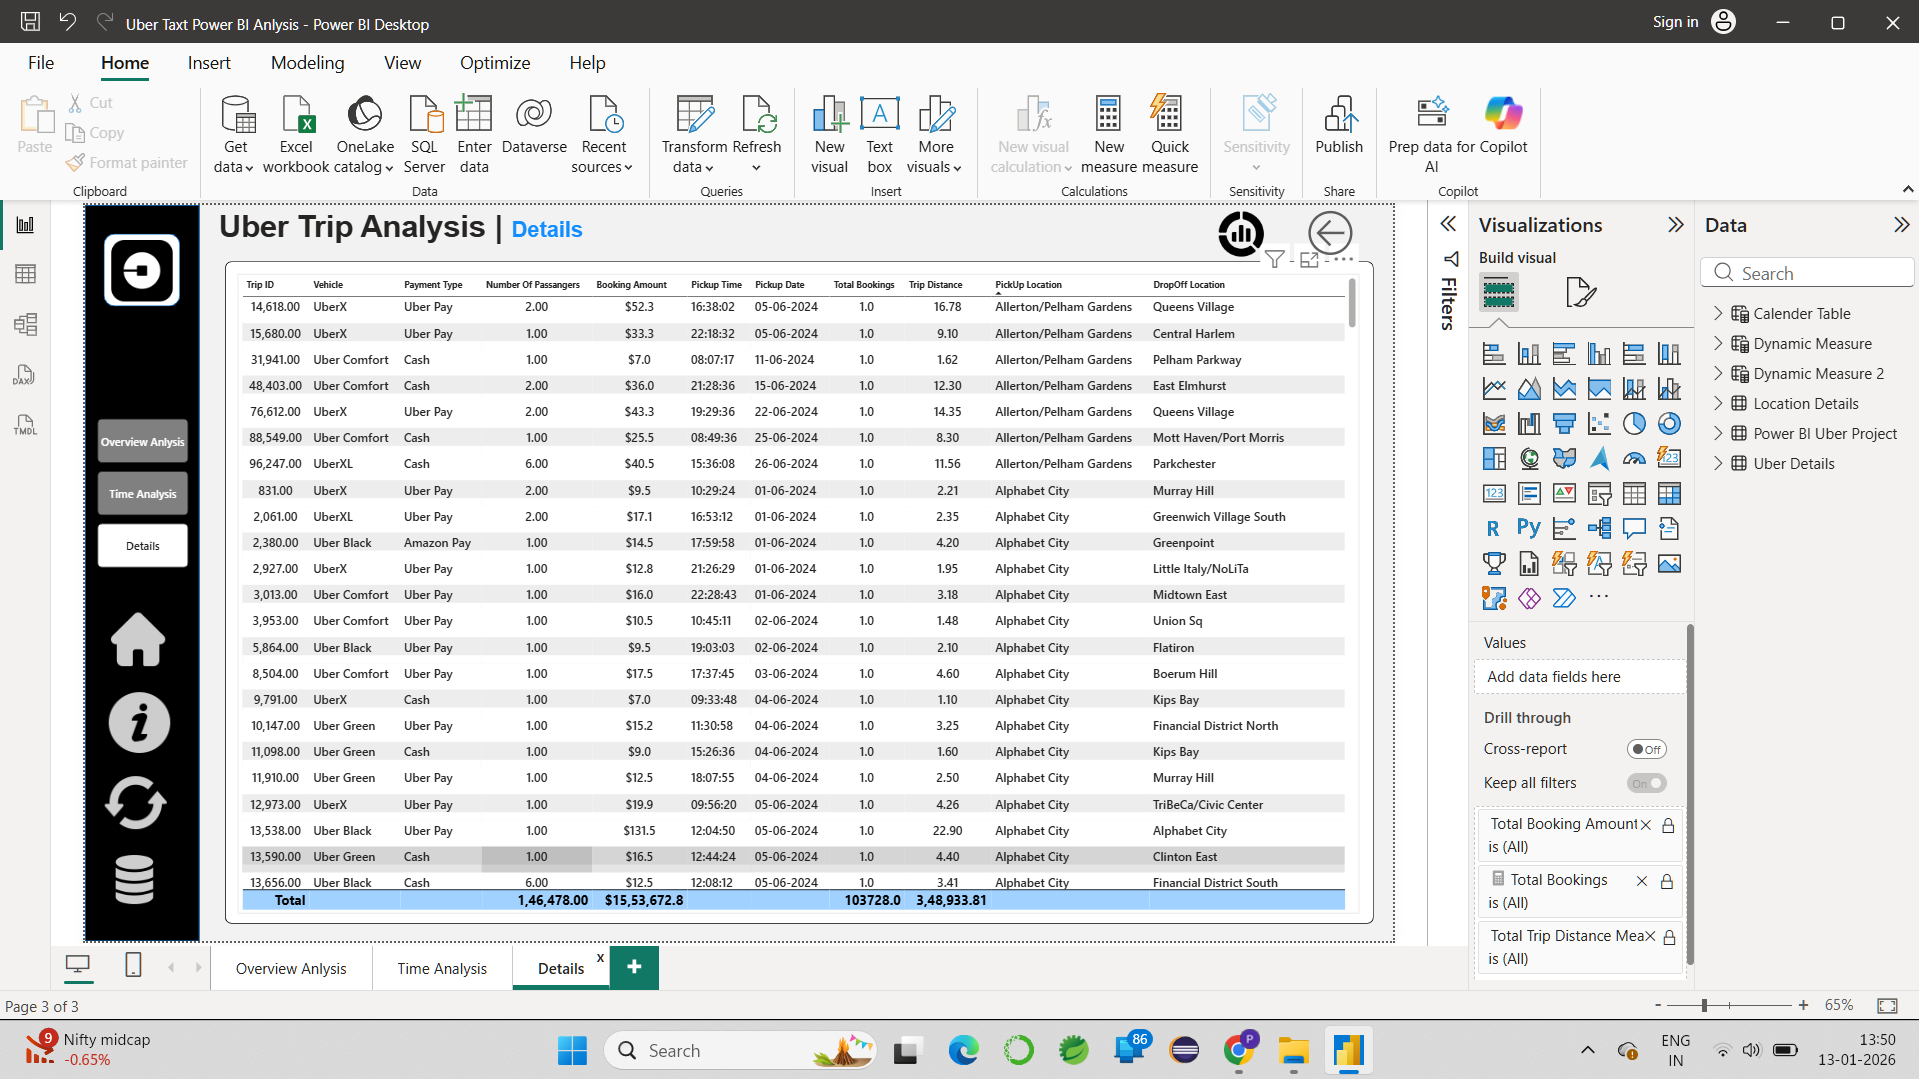

The page's visual inventory and layout, read from the dashboard file:
{"tool":"powerbi","page":{"name":"Details","canvas":[1600,900],"ordinal":2},"visuals":[{"type":"shape","box":[0,0,140,900.3],"z":0},{"type":"textbox","box":[159,0,767.3,68.8],"z":1000},{"type":"shape","box":[171.2,68.8,1404.7,810.1],"z":2000},{"type":"tableEx","fields":{"Values":["Uber Details.Trip ID","Uber Details.Vehicle","Uber Details.Payment_type","Sum(Uber Details.passenger_count)","Uber Details.Total Booking Amount","Uber Details.Pickup Time (HH MM SS)","Uber Details.Pickup date","Uber Details.Total Bookings","Uber Details.Total Trip Distance Measurment","Location Details.Location","Uber Details.Drop Off location Details"]},"box":[186.5,84.1,1372.6,782.6],"z":3000},{"type":"actionButton","box":[1488.3,0,71.7,68.3],"z":4000},{"type":"image","box":[1386.7,1.7,55,68.3],"z":5000},{"type":"pageNavigator","box":[15.3,261.4,111.6,185],"z":6000},{"type":"group","id":"g1","title":"Group 1","box":[22.9,35.2,93.2,88.7],"z":7000},{"type":"image","box":[22.9,498.3,84.1,65.7],"z":8000},{"type":"image","box":[29,588.5,74.9,88.7],"z":9000},{"type":"image","box":[15.3,692.4,93.2,76.4],"z":10000},{"type":"image","box":[16.8,794.8,87.1,59.6],"z":11000},{"type":"shape","box":[22.9,35.2,93.2,88.7],"z":33000,"group":"g1"},{"type":"image","box":[32.1,42.8,74.9,74.9],"z":34000,"group":"g1"}]}

Visuals, with their boxes on the page's 1600x900 design canvas (x1, y1, x2, y2). These are canvas units, not pixel positions in the 1919x1079 screenshot, which may show the page scaled, cropped or inside an application window:
shape: box(0, 0, 140, 900)
textbox: box(159, 0, 926, 69)
shape: box(171, 69, 1576, 879)
tableEx - Uber Details.Trip ID x Uber Details.Vehicle: box(186, 84, 1559, 867)
actionButton: box(1488, 0, 1560, 68)
image: box(1387, 2, 1442, 70)
pageNavigator: box(15, 261, 127, 446)
"Group 1" group: box(23, 35, 116, 124)
image: box(23, 498, 107, 564)
image: box(29, 588, 104, 677)
image: box(15, 692, 108, 769)
image: box(17, 795, 104, 854)
shape: box(23, 35, 116, 124)
image: box(32, 43, 107, 118)
